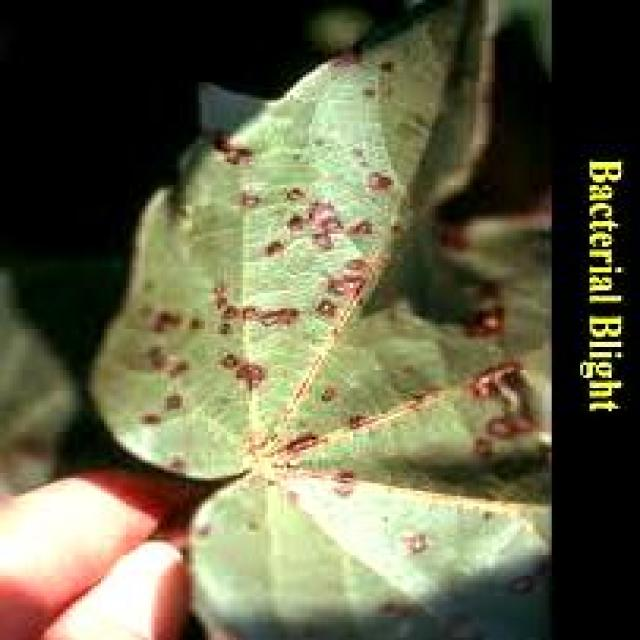Bacterial Blight: (196, 128, 555, 539)
